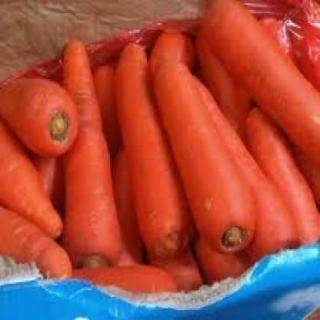Wortel: (149, 59, 260, 258), (116, 41, 195, 266), (62, 37, 126, 268), (1, 75, 84, 163)
